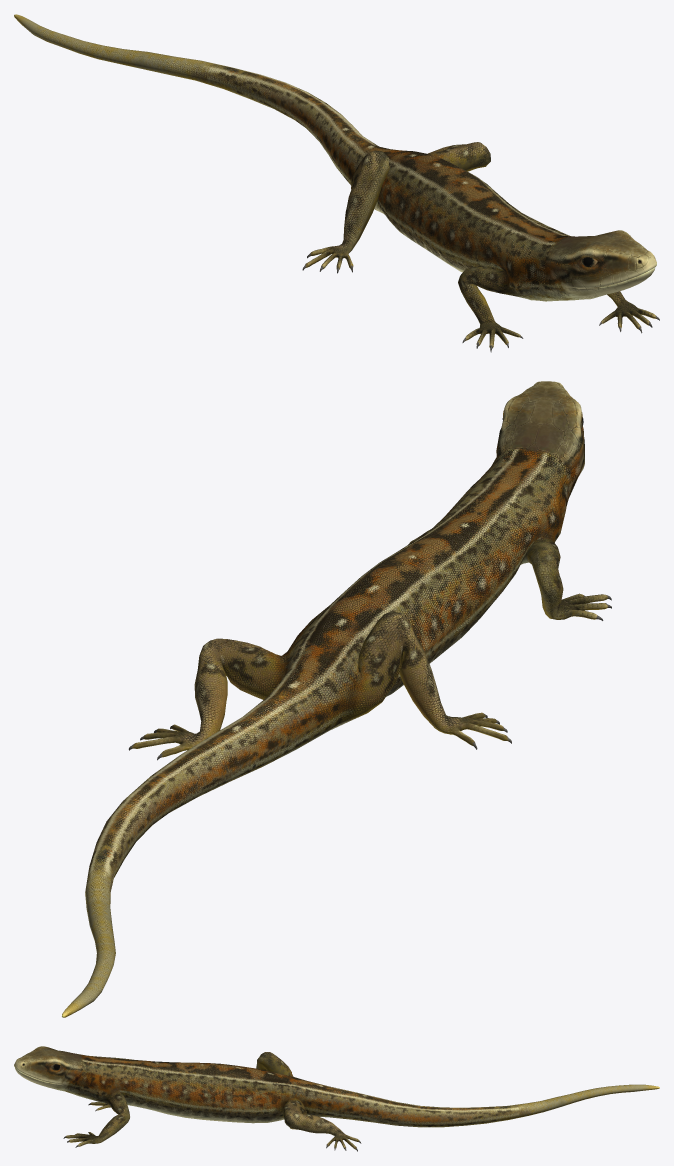
File: Standing194.obj
The picture shows the model from 3 angles, top to bottom: view 1: azimuth 30°, elevation 25°; view 2: azimuth 150°, elevation 25°; view 3: azimuth 270°, elevation 25°; orthographic projection. The views are drawn at different scales.
Visible parts, largest first — view 1: Lizard; view 2: Lizard; view 3: Lizard.
Boxes of the visible parts, bbox=[...] form: Lizard: bbox=[14, 14, 659, 352]; Lizard: bbox=[62, 381, 611, 1017]; Lizard: bbox=[14, 1046, 659, 1151].
Bounding box in the file's own units: 25.34 × 12.86 × 101.
